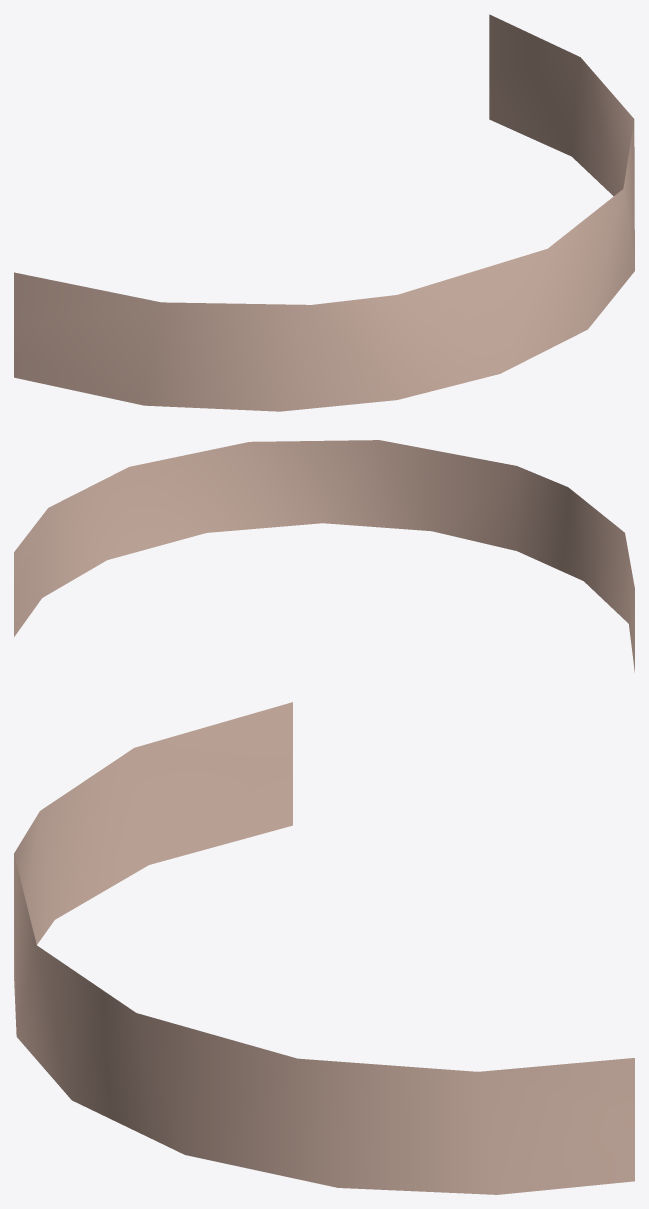
The model's file is original-156.obj.
The picture shows the model from 3 angles, top to bottom: view 1: azimuth 30°, elevation 25°; view 2: azimuth 150°, elevation 25°; view 3: azimuth 270°, elevation 25°; orthographic projection. The views are drawn at different scales.
Parts seen in each view (by area): view 1: Group115/mesh151/mesh151-geometry#mesh151-geometry; view 2: Group115/mesh151/mesh151-geometry#mesh151-geometry; view 3: Group115/mesh151/mesh151-geometry#mesh151-geometry.
Part boxes in pixels (x1,y1,x2,y2): Group115/mesh151/mesh151-geometry#mesh151-geometry: [14, 14, 634, 411]; Group115/mesh151/mesh151-geometry#mesh151-geometry: [14, 440, 634, 672]; Group115/mesh151/mesh151-geometry#mesh151-geometry: [14, 702, 634, 1194].
Size of the model in its own units: 0.2855 by 0.0445 by 0.2026.
